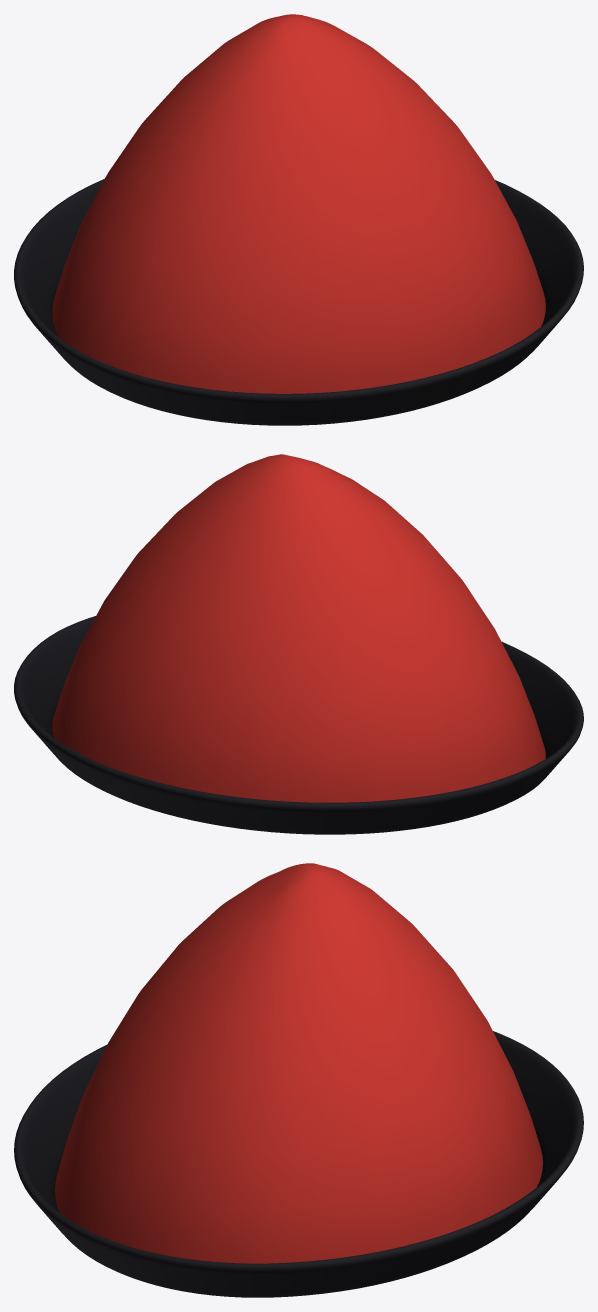
Rendered from hw_akkalpak.glb.
3 views of the same model, one above another, from view 1: azimuth 30°, elevation 25°; view 2: azimuth 150°, elevation 25°; view 3: azimuth 270°, elevation 25° (orthographic). The views are drawn at different scales.
Visible parts, largest first — view 1: hw_akkalpak, hw_akkalpak_brim; view 2: hw_akkalpak, hw_akkalpak_brim; view 3: hw_akkalpak, hw_akkalpak_brim.
Part boxes in pixels (left/top/right/bottom): hw_akkalpak: left=52, top=14, right=545, bottom=393; hw_akkalpak_brim: left=14, top=179, right=583, bottom=425; hw_akkalpak: left=52, top=454, right=545, bottom=802; hw_akkalpak_brim: left=14, top=616, right=583, bottom=834; hw_akkalpak: left=55, top=863, right=542, bottom=1263; hw_akkalpak_brim: left=14, top=1031, right=583, bottom=1297.
Size of the model in its own units: 0.9667 by 0.5582 by 0.8838.
